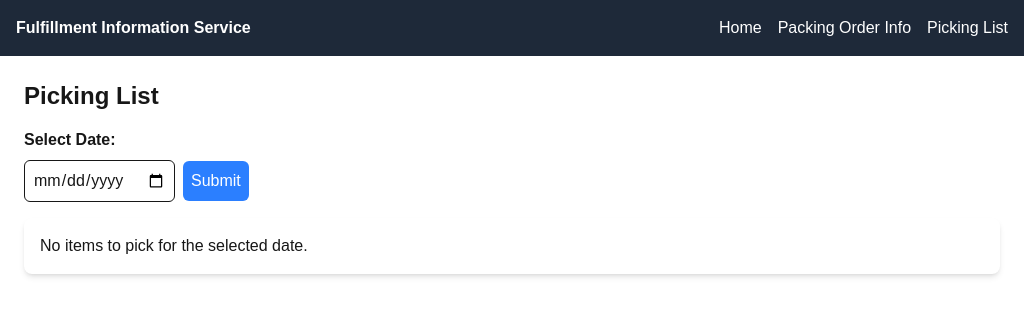
Test: PickingList Component › handles multiple fetches correctly
The image size is (1024, 330).
Type "2025-04-01" into the date field labelled "Select Date:" at (100, 181), box [24,160,175,202]
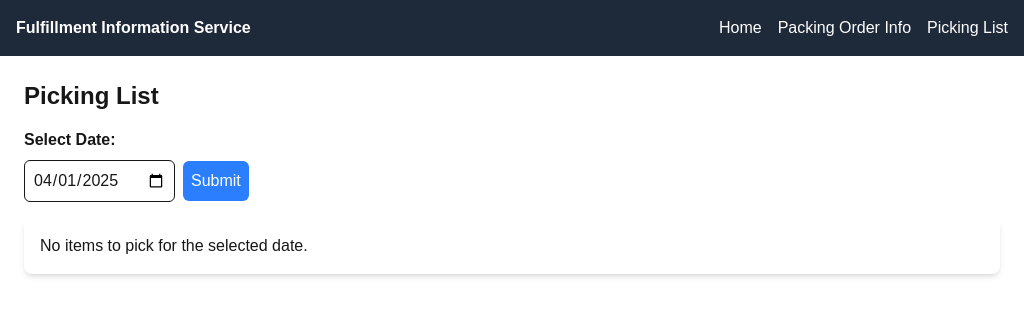
Click the button "Submit" at (216, 181), box [183,161,249,201]
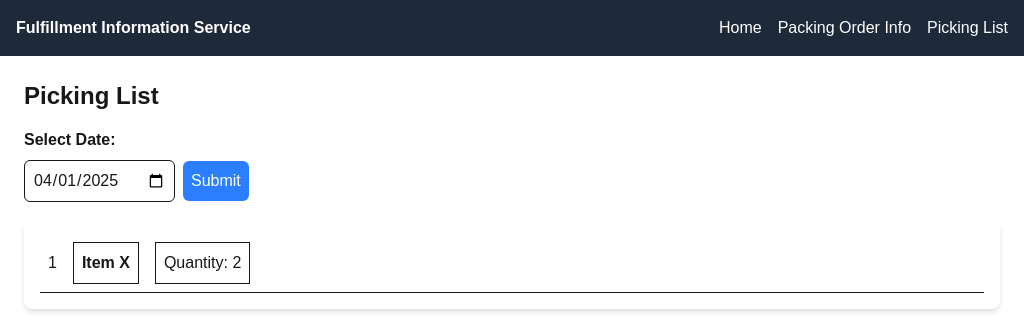
Check: the text "Item X" is shown, box [82,251,130,275]
Check: the text "Quantity: 2" is shown, box [164,251,241,275]
Type "2025-04-02" into the date field labelled "Select Date:" at (100, 181), box [24,160,175,202]
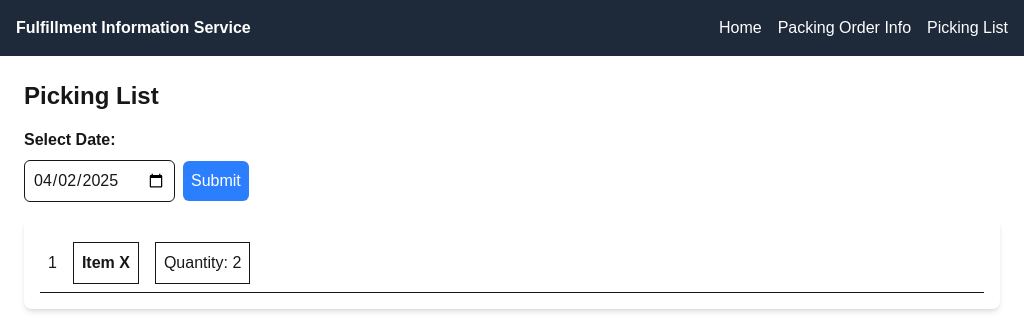
Click the button "Submit" at (216, 181), box [183,161,249,201]
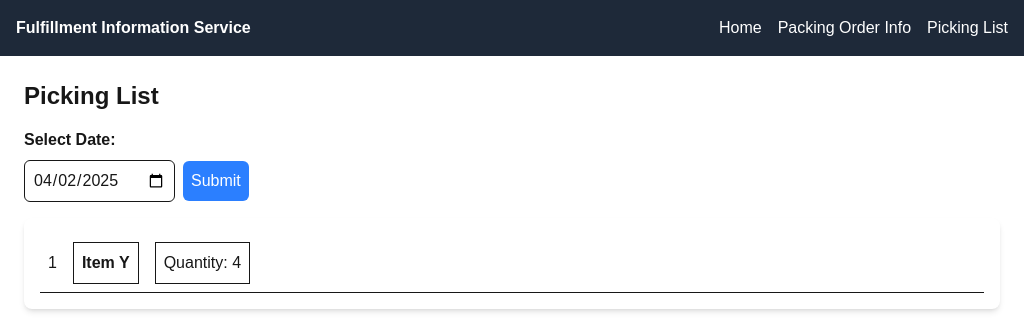
Check: the text "Item Y" is shown, box [82,251,130,275]
Check: the text "Quantity: 4" is shown, box [164,251,241,275]
